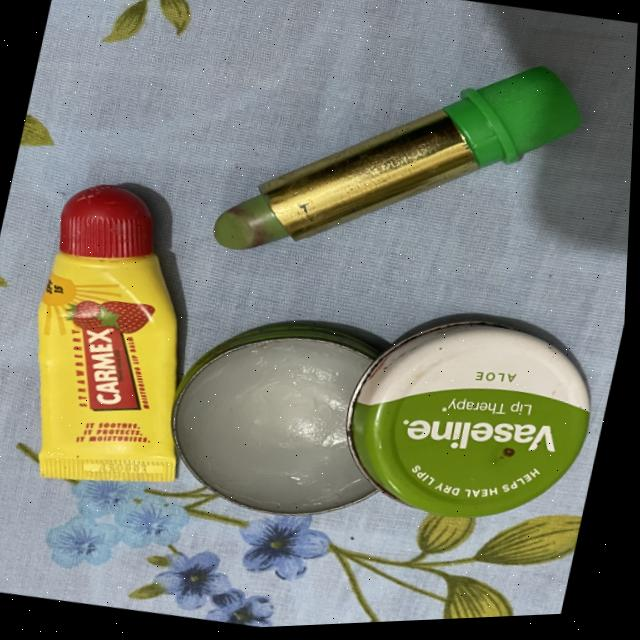lip balm: (159, 268, 627, 580), (0, 167, 242, 528), (141, 291, 431, 563)
lip stick: (177, 0, 633, 343)
